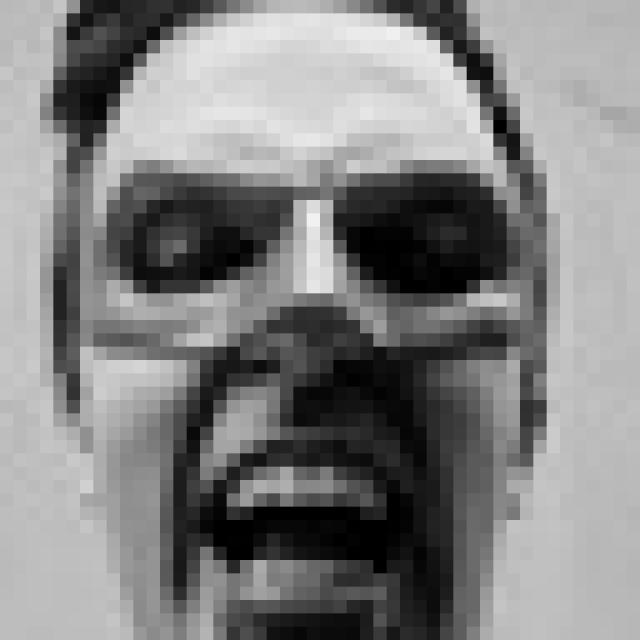angry: (113, 146, 515, 629)
